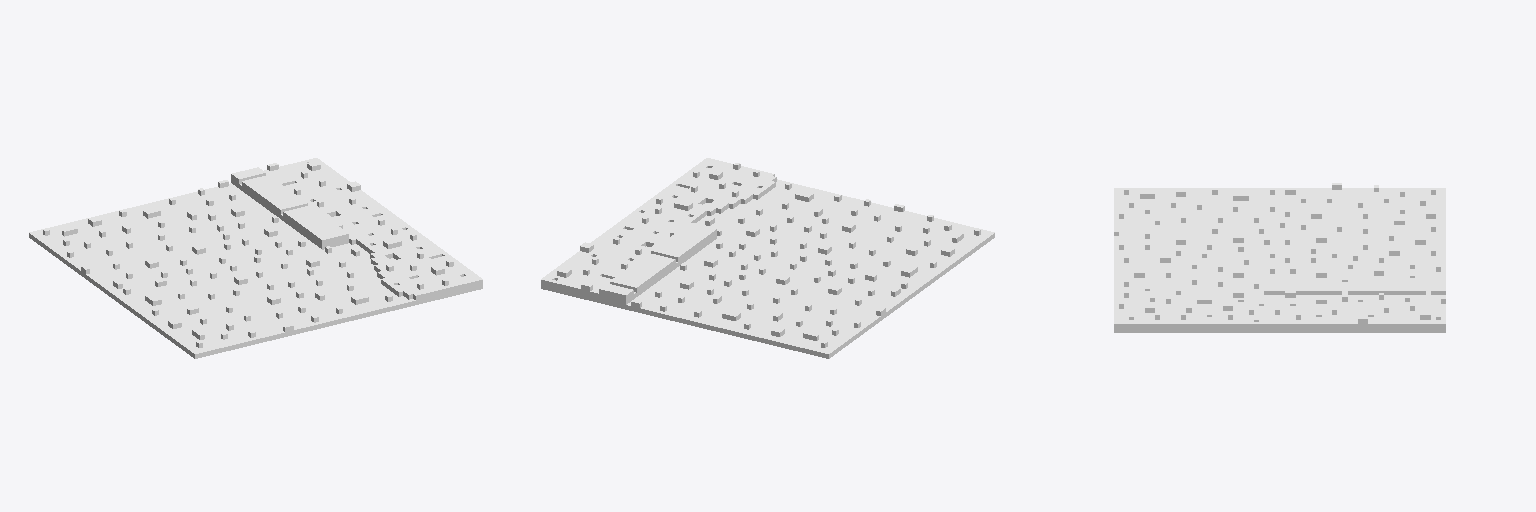
Rendered from Transition_3.obj.
The picture shows the model from 3 angles: view 1: azimuth 30°, elevation 25°; view 2: azimuth 150°, elevation 25°; view 3: azimuth 270°, elevation 25°; orthographic projection.
Visible parts, largest first — view 1: Transition_3; view 2: Transition_3; view 3: Transition_3.
Boxes of the visible parts, box(x1,y1,x2,y2) form: Transition_3: box(29, 158, 482, 358); Transition_3: box(541, 158, 994, 358); Transition_3: box(1114, 183, 1445, 332).
Size of the model in its own units: 1 by 0.0469 by 1.